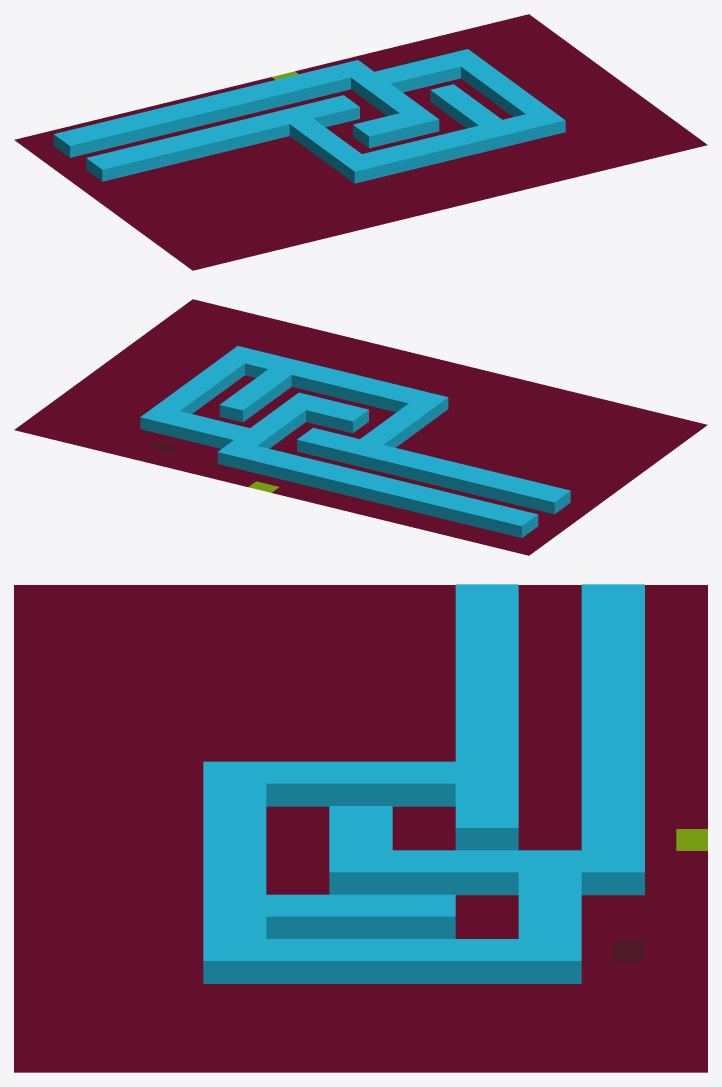
The model's file is level_02.fbx.
3 views of the same model, one above another, from view 1: azimuth 30°, elevation 25°; view 2: azimuth 150°, elevation 25°; view 3: azimuth 270°, elevation 25° (orthographic). The views are drawn at different scales.
Parts seen in each view (by area): view 1: Plane; view 2: Plane; view 3: Plane.
Part boxes in pixels (x1,y1,x2,y2): Plane: [14, 14, 707, 270]; Plane: [14, 299, 707, 555]; Plane: [14, 584, 707, 1072].
Size of the model in its own units: 22.58 by 0.4993 by 13.58.
